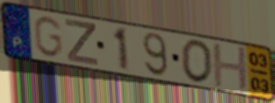1: (113, 25, 133, 75)
9: (140, 32, 170, 79)
G: (32, 15, 64, 60)
H: (211, 42, 251, 92)
O: (179, 38, 215, 86)
Z: (64, 18, 100, 68)
